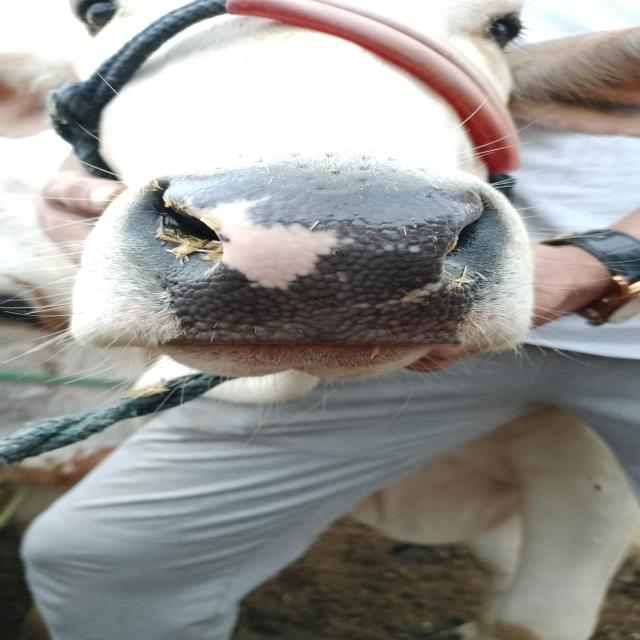muzzles: (114, 168, 516, 357)
